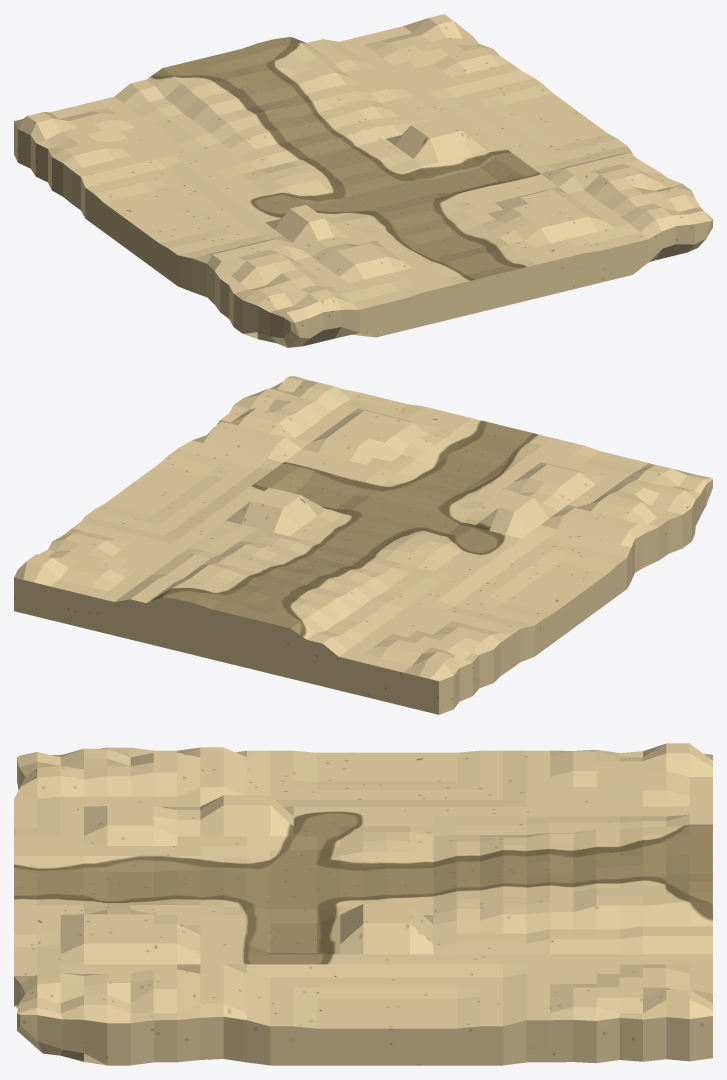
3 renders of one model, top to bottom at view 1: azimuth 30°, elevation 25°; view 2: azimuth 150°, elevation 25°; view 3: azimuth 270°, elevation 25°, orthographic. The views are drawn at different scales.
Parts seen in each view (by area): view 1: A1_P1_LP; view 2: A1_P1_LP; view 3: A1_P1_LP.
Boxes of the visible parts, x1,y1,x2,y2 form: A1_P1_LP: (14, 14, 712, 347); A1_P1_LP: (14, 376, 712, 714); A1_P1_LP: (14, 743, 712, 1065).
Bounding box in the file's own units: 2800 × 310 × 3000.
1 material, 1 textured.
